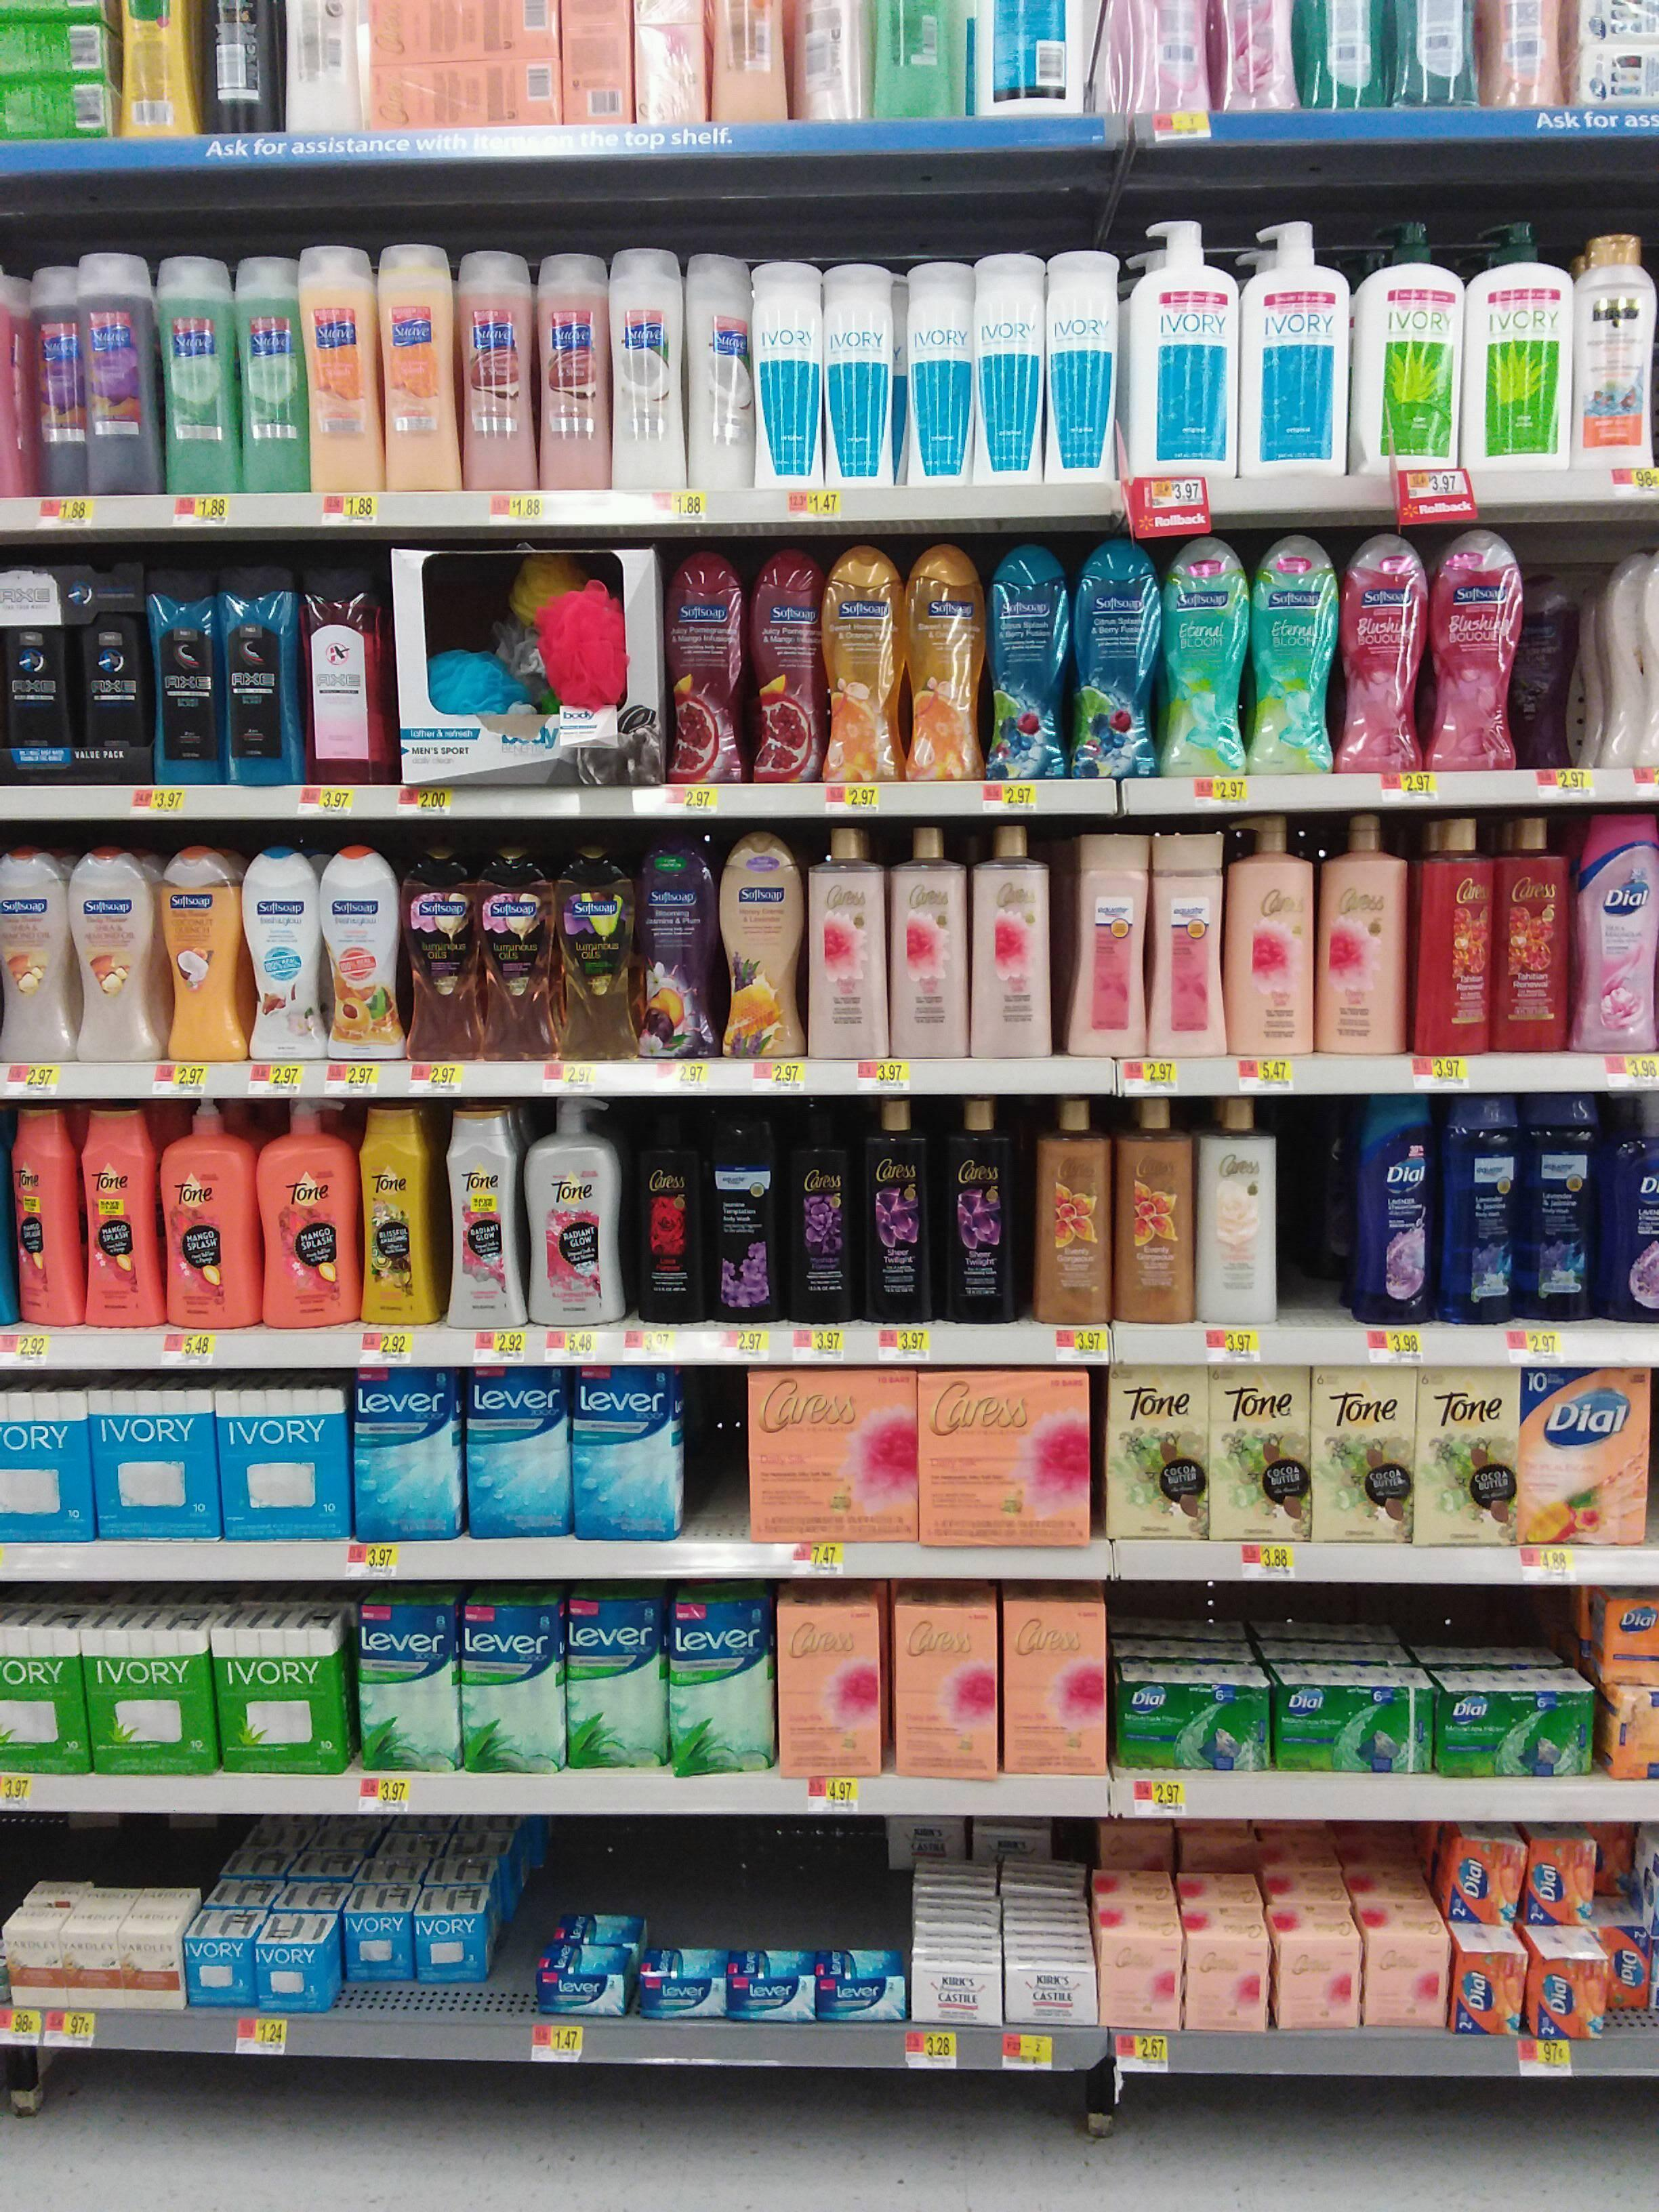empty: (652, 1876, 897, 1954), (1527, 550, 1603, 770), (1288, 1109, 1363, 1329), (484, 1820, 542, 2024)
